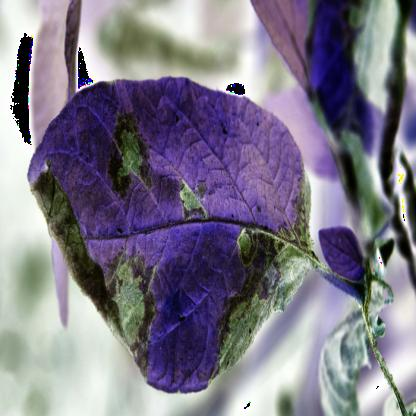Potato leaf late blight: (24, 75, 317, 395)
